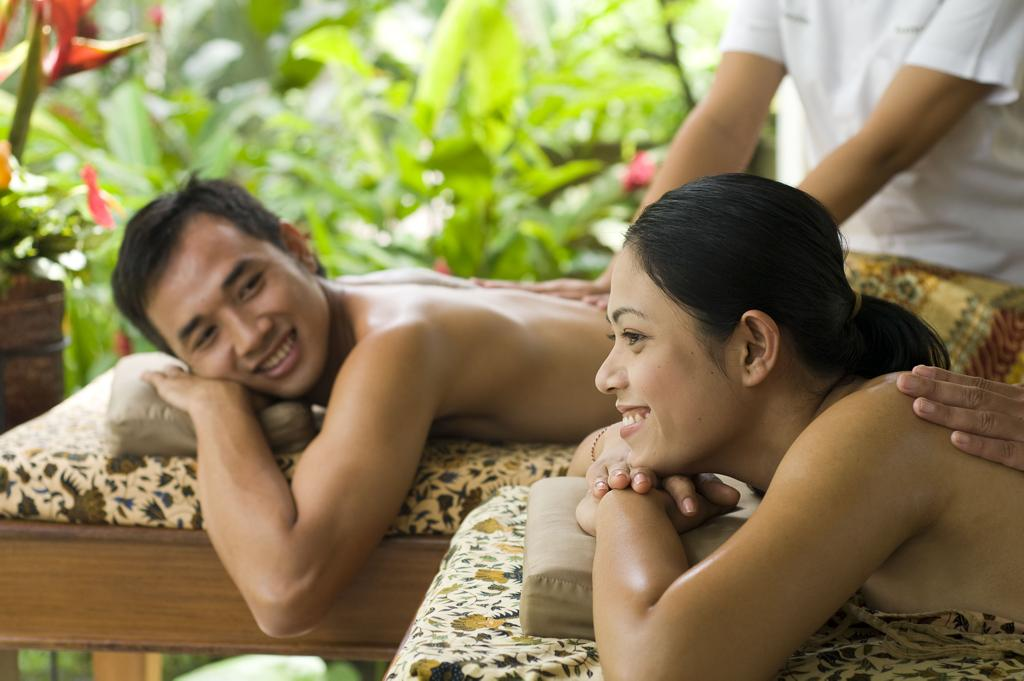face: (162, 250, 326, 396), (594, 282, 718, 470)
